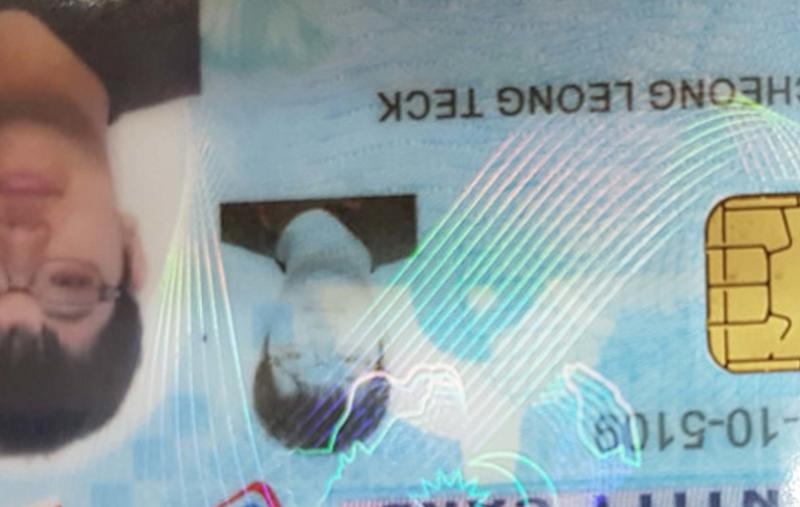hologram: (430, 123, 694, 360)
